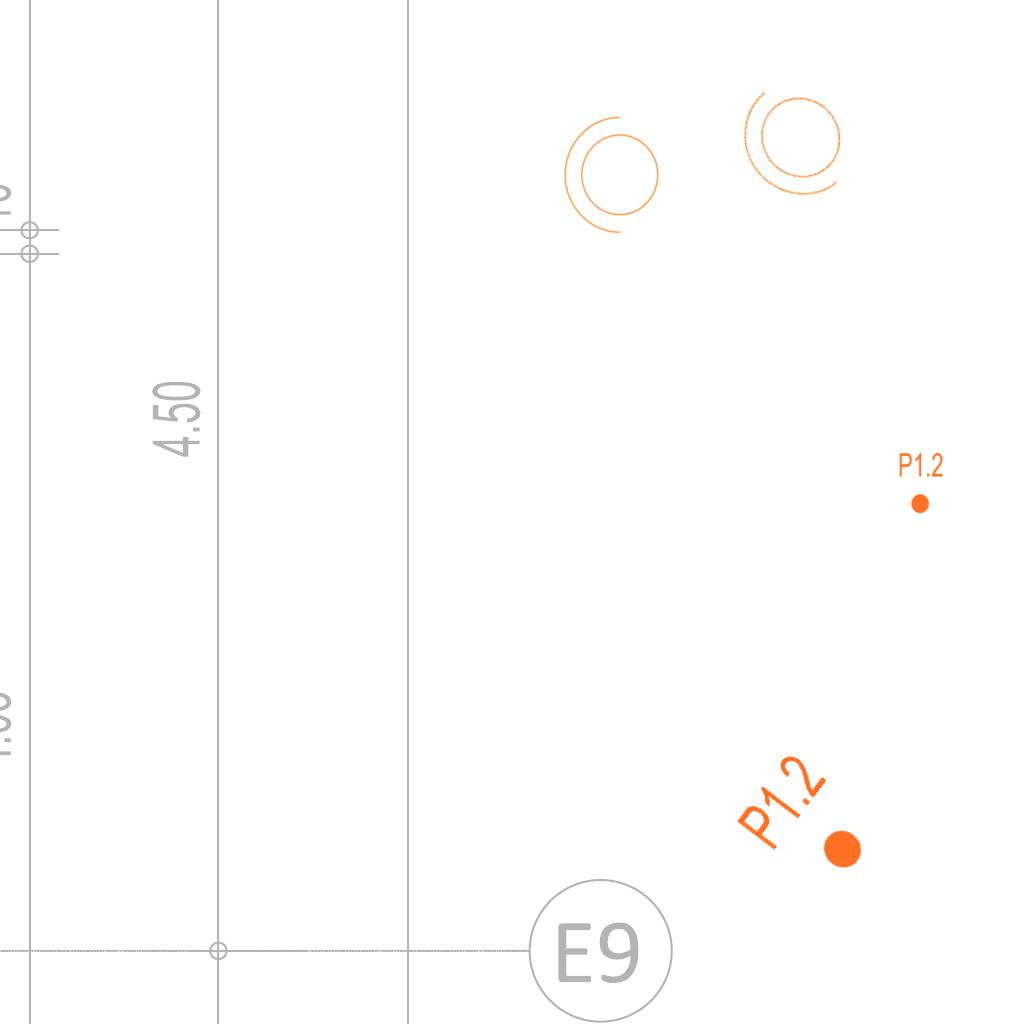Downlight_LED_Einbauleuchten_Flur: (731, 747, 890, 899), (898, 451, 944, 515)
Scheinwerfer_fuer_Alarmbeleuchtung: (713, 56, 885, 230), (559, 112, 671, 244)
